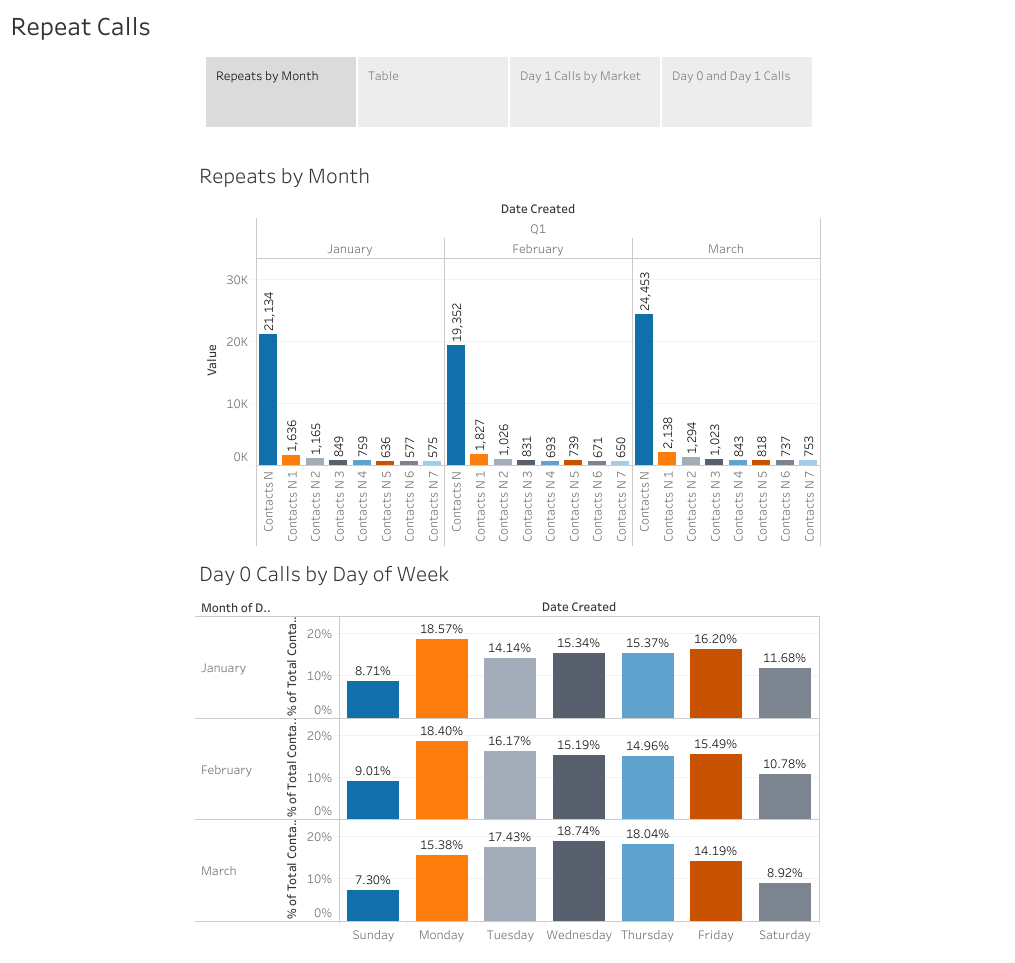

Layout of this report page (visuals, bound fields, positions):
{"tool":"tableau","page":{"name":"Dashboard 3","canvas":[650,860],"ordinal":2},"visuals":[{"type":"worksheet","title":"Repeats by Month","mark":"Bar","cols":["date_created","date_created"],"box":[8,8,634,422]},{"type":"worksheet","title":"% Day 0 Repeats by Day of Week","mark":"Bar","rows":["date_created"],"cols":["date_created"],"box":[8,430,634,422]}]}

Visuals, with their boxes on the page's 650x860 design canvas (x1, y1, x2, y2). These are canvas units, not pixel positions in the 1015x963 screenshot, which may show the page scaled, cropped or inside an application window:
"Repeats by Month" worksheet (Bar marks): x1=8 y1=8 x2=642 y2=430
"% Day 0 Repeats by Day of Week" worksheet (Bar marks): x1=8 y1=430 x2=642 y2=852
